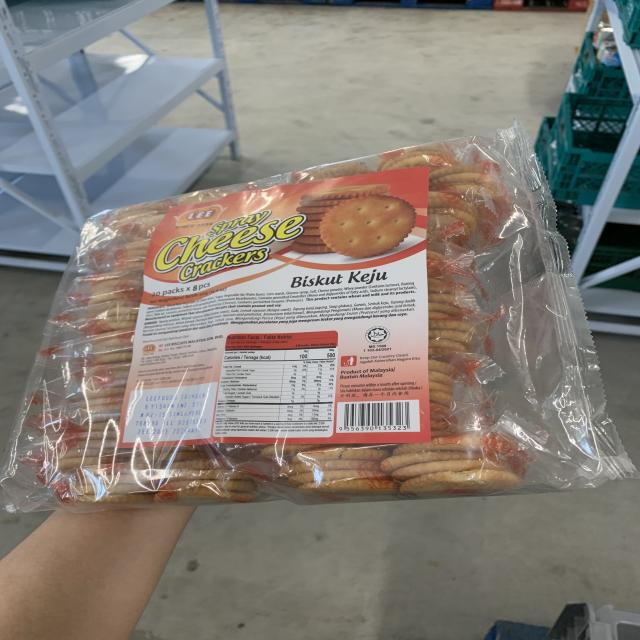object_name: (72, 182, 554, 500)
